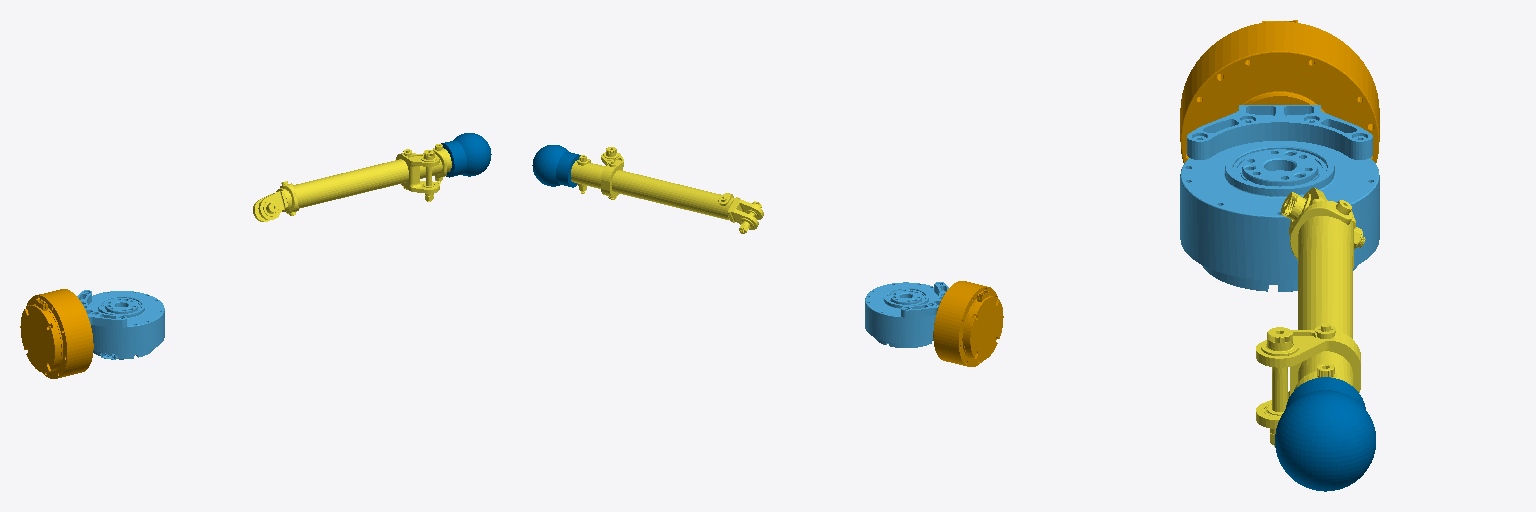
URDF robot description (MagicLimbRobotPlanarFL):
<?xml version='1.0' encoding='utf-8'?>
<robot name="MagicLimbRobotPlanarFL">
    <link name="MotorHip">
        <visual name="MotorHip_visual">
            <origin xyz="0.0 0.0 0.0" rpy="0.0 0.0 0.0" />
            <geometry>
                <mesh filename="meshes/MotorHip.stl" scale="0.001 0.001 0.001" />
            </geometry>
        </visual>
        <collision name="MotorHip_collision">
            <origin xyz="0.0 0.0 0.0" rpy="0.0 0.0 0.0" />
            <geometry>
                <mesh filename="meshes/MotorHip.stl" scale="0.001 0.001 0.001" />
            </geometry>
        </collision>
    </link>
    <link name="MotorThigh">
        <visual name="MotorThigh_visual">
            <origin xyz="0 0 0" rpy="0 0 0" />
            <geometry>
                <mesh filename="meshes/MotorThigh.stl" scale="0.001 0.001 0.001" />
            </geometry>
        </visual>
        <collision name="MotorThigh_collision">
            <origin xyz="0 0 0" rpy="0 0 0" />
            <geometry>
                <mesh filename="meshes/MotorThigh.stl" scale="0.001 0.001 0.001" />
            </geometry>
        </collision>
    </link>
    <link name="ThighReal_B">
        <visual name="ThighReal_B_visual">
            <origin xyz="0 0 0" rpy="0 0 0" />
            <geometry>
                <mesh filename="meshes/ThighReal_B.stl" scale="0.001 0.001 0.001" />
            </geometry>
        </visual>
        <collision name="ThighReal_B_collision">
            <origin xyz="0 0 0" rpy="0 0 0" />
            <geometry>
                <mesh filename="meshes/ThighReal_B.stl" scale="0.001 0.001 0.001" />
            </geometry>
        </collision>
    </link>
    <link name="CalfReal_B">
        <visual name="CalfReal_B_visual">
            <origin xyz="0 0 0" rpy="0 0 0" />
            <geometry>
                <mesh filename="meshes/CalfReal_B.stl" scale="0.001 0.001 0.001" />
            </geometry>
        </visual>
        <collision name="CalfReal_B_collision">
            <origin xyz="0 0 0" rpy="0 0 0" />
            <geometry>
                <mesh filename="meshes/CalfReal_B.stl" scale="0.001 0.001 0.001" />
            </geometry>
        </collision>
    </link>
    <link name="Foot">
        <visual name="Foot_visual">
            <origin xyz="0 0 0" rpy="0 0 0" />
            <geometry>
                <mesh filename="meshes/Foot.stl" scale="0.001 0.001 0.001" />
            </geometry>
        </visual>
        <collision name="Foot_collision">
            <origin xyz="0 0 0" rpy="0 0 0" />
            <geometry>
                <mesh filename="meshes/Foot.stl" scale="0.001 0.001 0.001" />
            </geometry>
        </collision>
    </link>
    <joint name="hip" type="revolute">
        <origin xyz="0.0 0.0 0.0" rpy="0.0 0.0 0.0" />
        <parent link="MotorHip" />
        <child link="MotorThigh" />
        <axis xyz="1.0 0.0 0.0" />
        <limit lower="-3.141592654" upper="0" effort="1000000" velocity="1000000" />
    </joint>
    <joint name="thigh" type="revolute">
        <origin xyz="0.0 0.0 0.0746188" rpy="0.0 0.0 0.0" />
        <parent link="MotorThigh" />
        <child link="ThighReal_B" />
        <axis xyz="0.0 0.0 1.0" />
        <limit lower="0" upper="3.141592654" effort="1000000" velocity="1000000" />
    </joint>
    <joint name="knee" type="revolute">
        <origin xyz="0.162 0.0 0.0" rpy="0.0 0.0 0.0" />
        <parent link="ThighReal_B" />
        <child link="CalfReal_B" />
        <axis xyz="0.0 -0.866025403 0.5" />
        <limit lower="-3.141592654" upper="0" effort="1000000" velocity="1000000" />
    </joint>

    <joint name="foot_fix" type="fixed">
        <origin xyz="0.215 0.018 -0.0046188" rpy="0.0 0.0 1.570796327" />
        <parent link="CalfReal_B" />
        <child link="Foot" />
    </joint>
    
</robot>

--- What the picture shows (computed from the rendered views, not written in the file) ---
3 views of the same robot in one strip: view 1: azimuth 30°, elevation 25°; view 2: azimuth 150°, elevation 25°; view 3: azimuth 270°, elevation 25° (orthographic).
Robot: MagicLimbRobotPlanarFL — 5 links, 4 joints (3 revolute, 1 fixed); root link MotorHip; default pose: all joints at 0.
Visible links, largest first — view 1: CalfReal_B, MotorHip, MotorThigh, Foot; view 2: CalfReal_B, MotorHip, MotorThigh, Foot; view 3: MotorThigh, MotorHip, CalfReal_B, Foot.
Link boxes in pixels (<box>): CalfReal_B: <box>253,144,451,221</box>; MotorHip: <box>20,289,93,378</box>; MotorThigh: <box>77,290,164,359</box>; Foot: <box>441,133,491,177</box>; CalfReal_B: <box>571,147,763,233</box>; MotorHip: <box>933,281,1003,366</box>; MotorThigh: <box>865,282,948,347</box>; Foot: <box>532,145,580,187</box>; MotorThigh: <box>1180,105,1379,291</box>; MotorHip: <box>1180,20,1379,162</box>; CalfReal_B: <box>1256,187,1365,446</box>; Foot: <box>1275,377,1375,491</box>.
Size in the robot's own frame: 0.4855 by 0.0785 by 0.1317 metres.
Meshes: 5 distinct files referenced, 4 mesh visuals loaded (4 binary STL); not drawn: 1 (reference not matched to a file when rendering).
